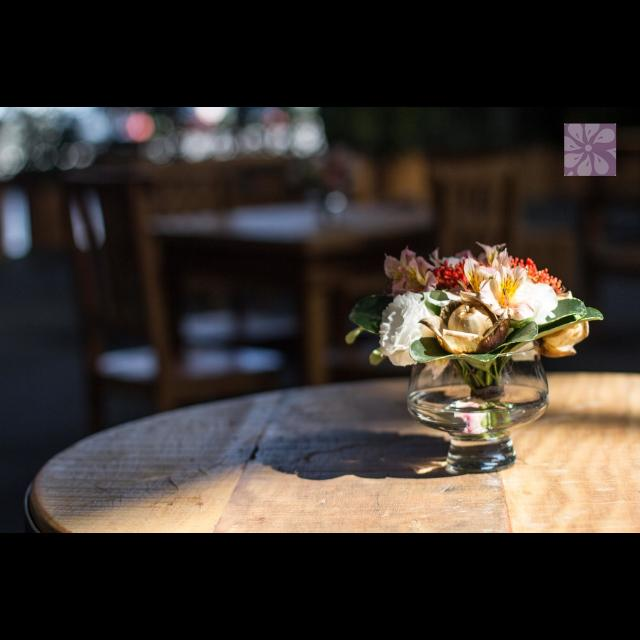Flower: (378, 282, 442, 372), (424, 293, 516, 353), (479, 262, 559, 324), (376, 243, 440, 297), (514, 254, 564, 296), (437, 255, 489, 289), (476, 238, 506, 260)
